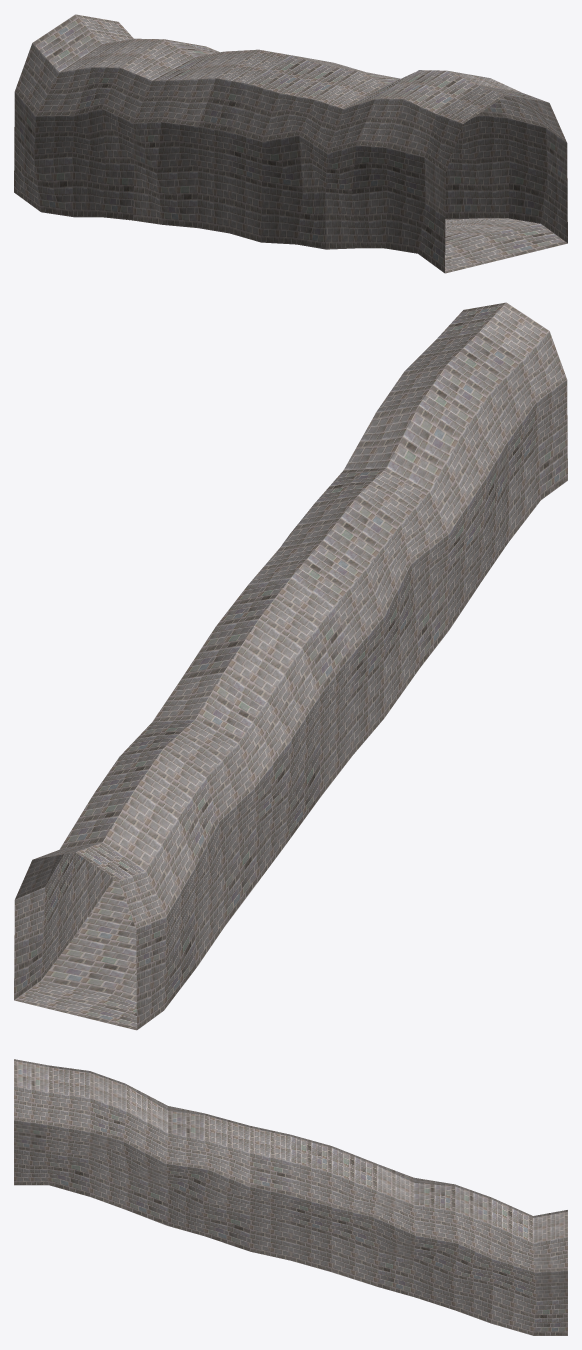
Rendered from map50DSNS.fbx.
3 renders of one model, top to bottom at view 1: azimuth 30°, elevation 25°; view 2: azimuth 150°, elevation 25°; view 3: azimuth 270°, elevation 25°, orthographic. The views are drawn at different scales.
Visible parts, largest first — view 1: Layer4; view 2: Layer4; view 3: Layer4.
Boxes of the visible parts, x1=… form: Layer4: x1=14, y1=14, x2=567, y2=273; Layer4: x1=14, y1=302, x2=567, y2=1030; Layer4: x1=14, y1=1059, x2=567, y2=1335.
Size of the model in its own units: 0.1761 by 0.5088 by 1.
